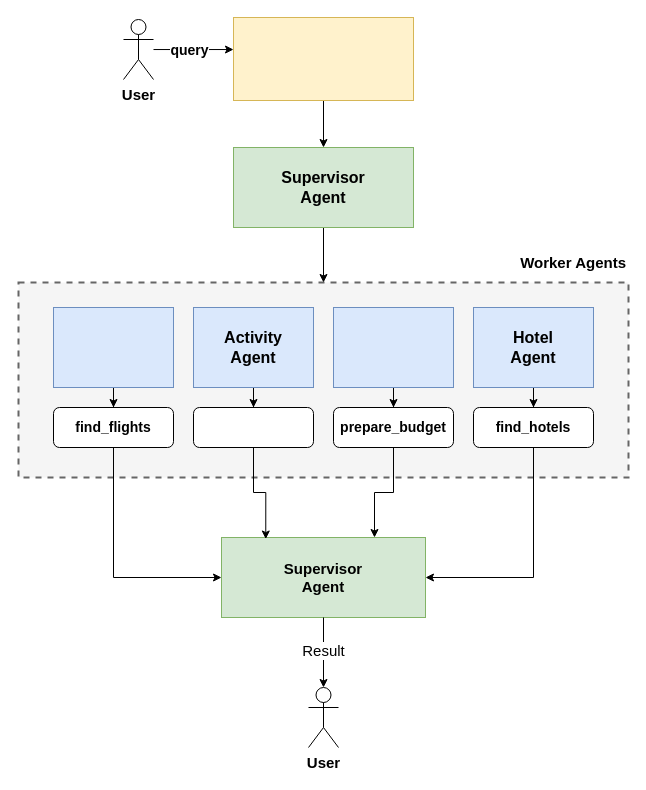
This 646x790 diagram has some shape labels left out. Each missing label, with the centre of its shape:
Budget Agent: (x=393, y=347)
find_activities: (x=253, y=427)
Flight Agent: (x=113, y=347)
MagenticBuilder Workflow: (x=323, y=58)
